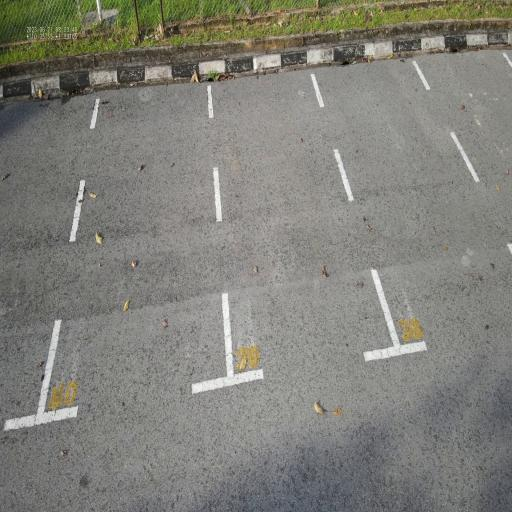Empty: (33, 70, 239, 431), (204, 69, 406, 391)
